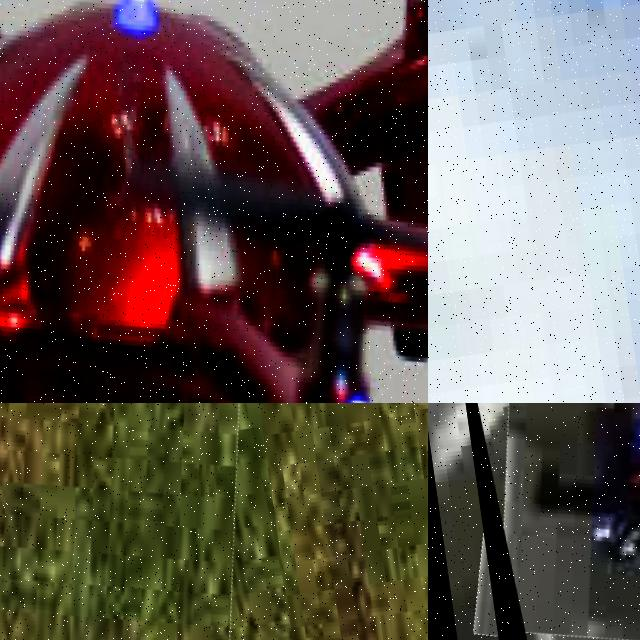drone: (0, 0, 428, 403), (0, 403, 296, 640), (441, 403, 640, 640)
